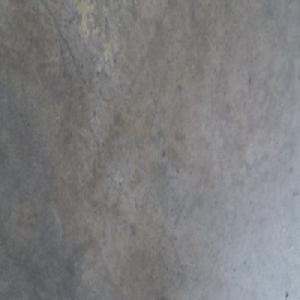Wrench: (167, 294, 174, 299)
